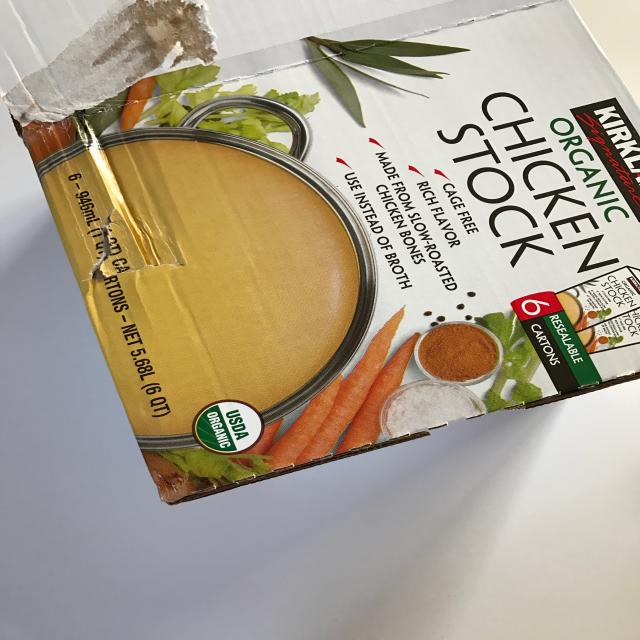Cardboard: (1, 0, 640, 512)
